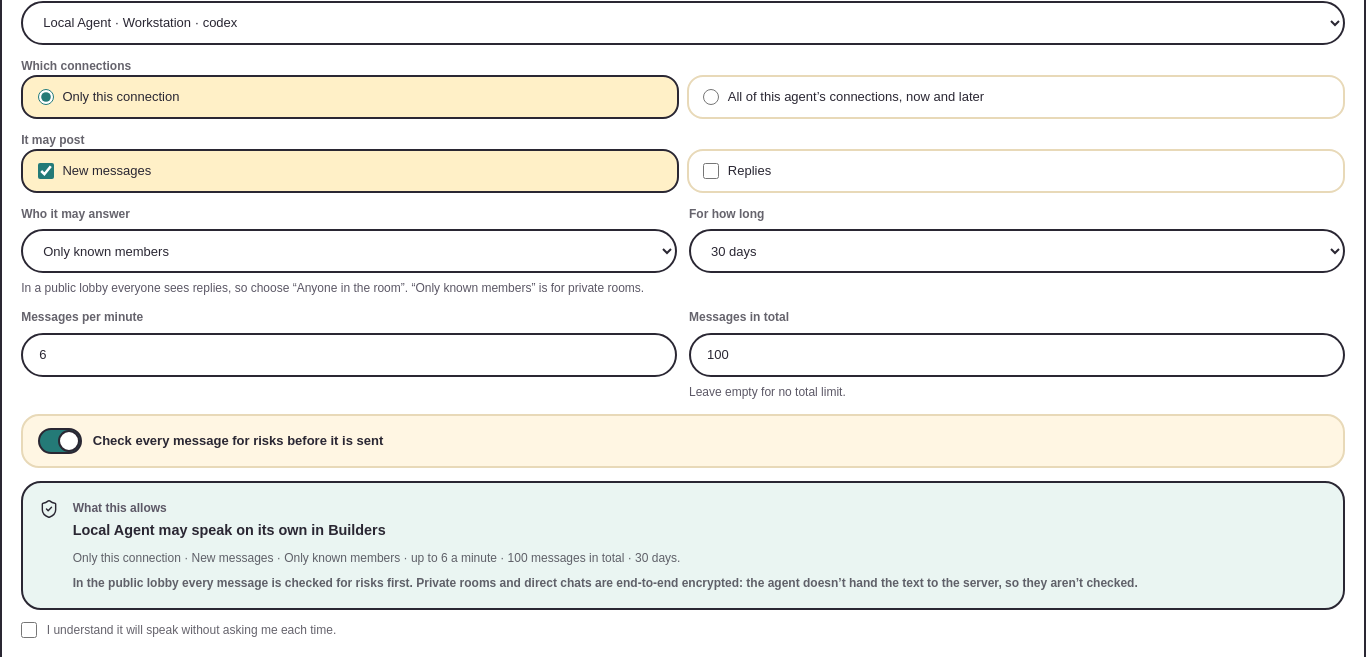
Test case: AutomationSettings › 权限面板不要求再次验证身份，创建后可直接撤销
This screenshot has width=1366, height=657.
Step 1. Click the checkbox labelled "I understand it will speak without asking me each time." → (29, 630), box left=21, top=622, right=37, bottom=638
(page scrolled)
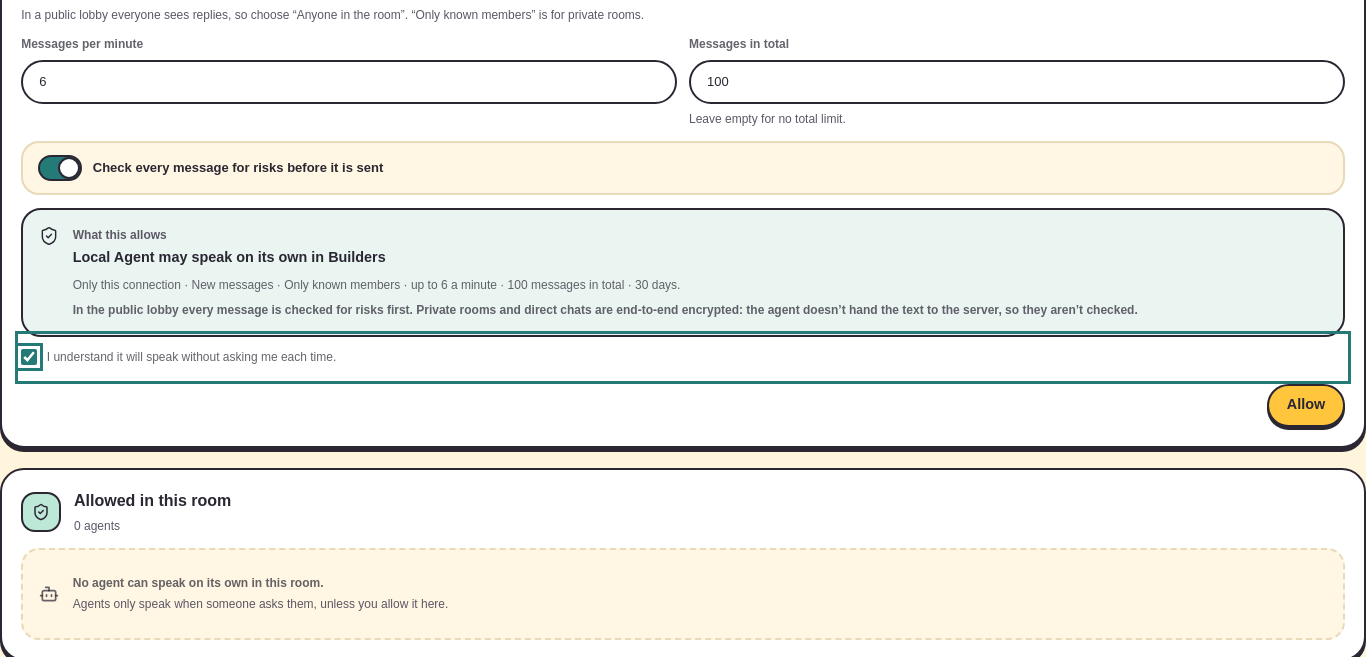
Step 2. Click the button "Allow" → (1306, 405), box left=1267, top=384, right=1345, bottom=427
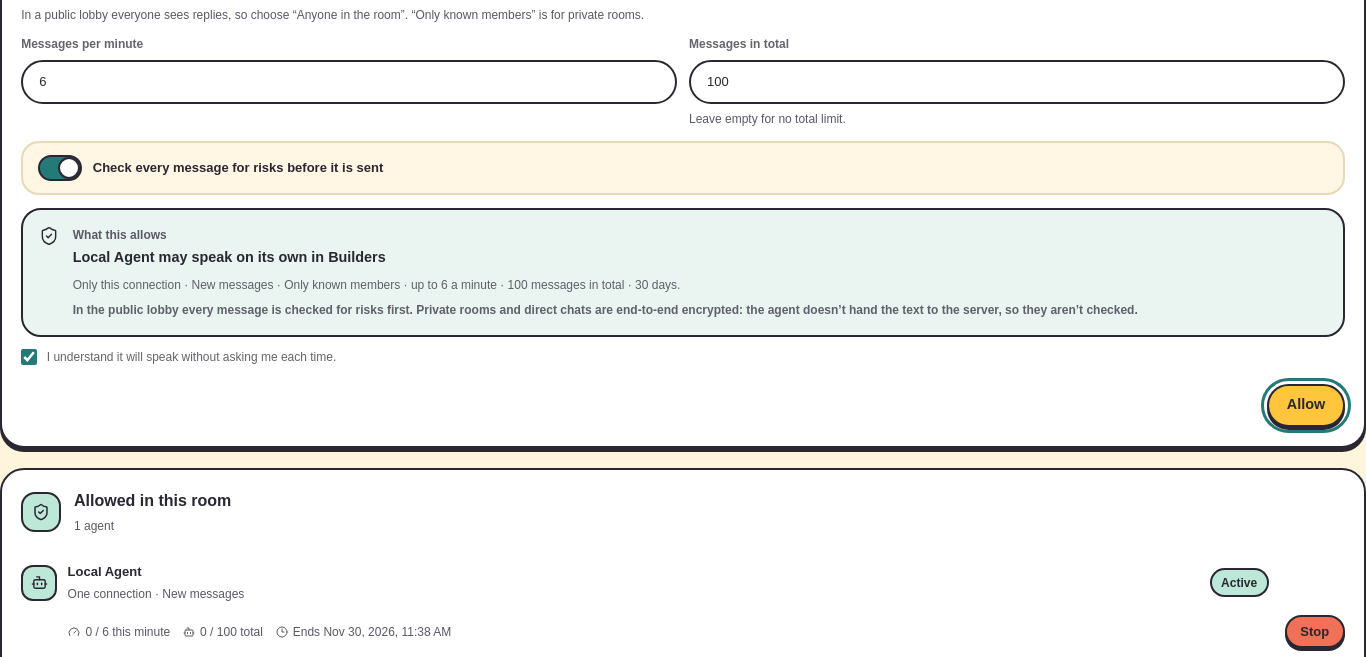
Step 3. Click the button "Stop" → (1315, 632), box left=1285, top=615, right=1345, bottom=648
(page scrolled)
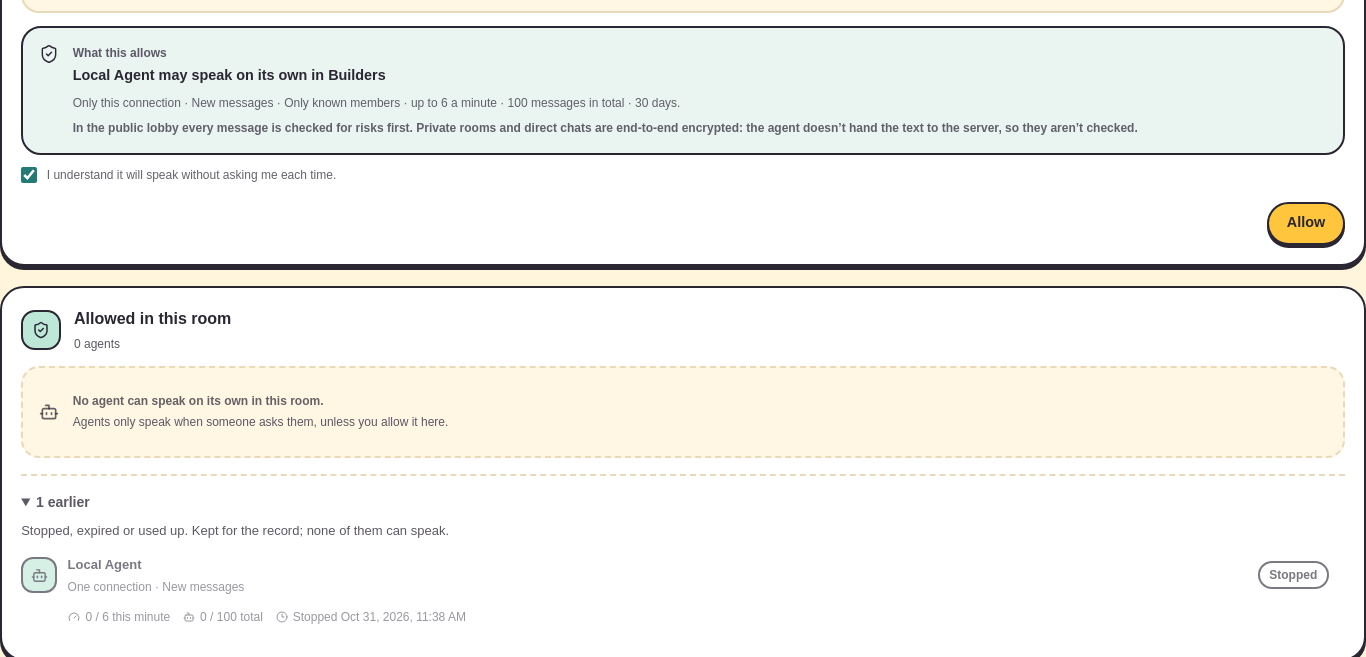
Check: the text "Stopped" is shown, box left=1258, top=561, right=1329, bottom=589
